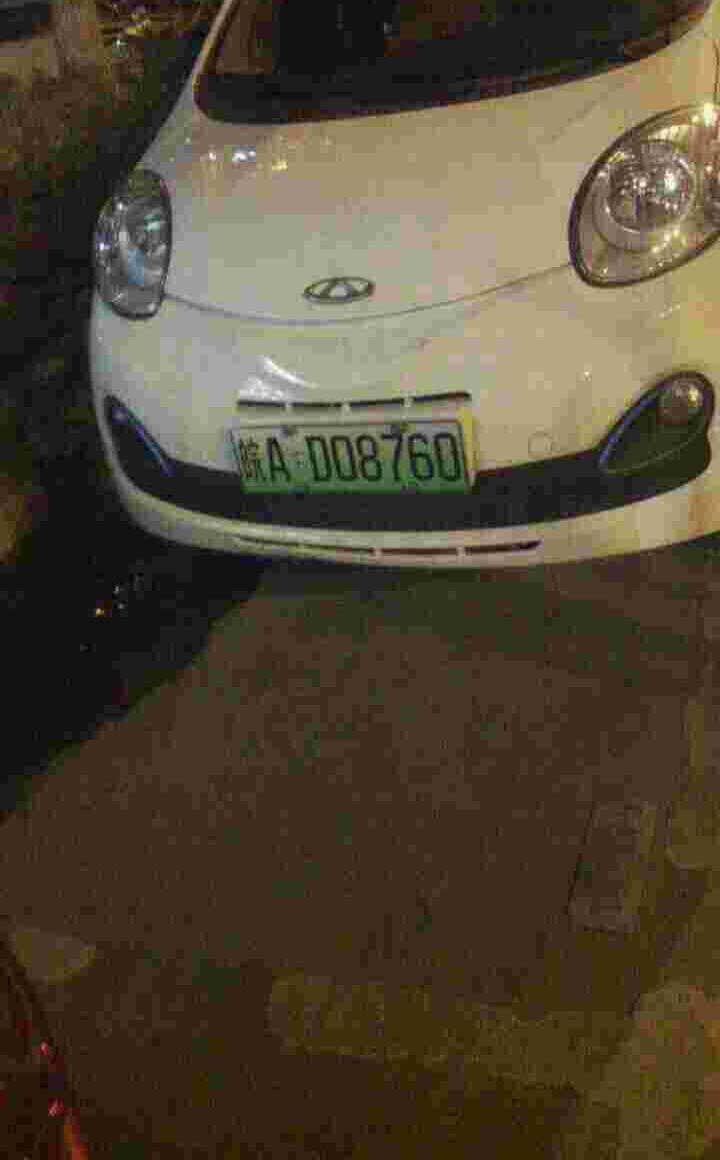car: (229, 420, 491, 498)
